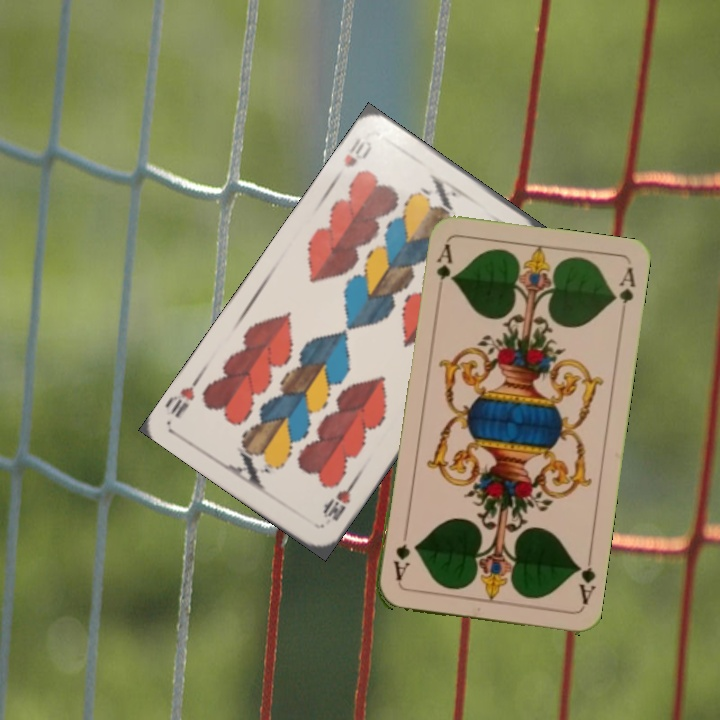GA: (571, 550, 598, 609), (432, 239, 455, 283)
H10: (318, 476, 358, 524), (339, 133, 375, 171)
